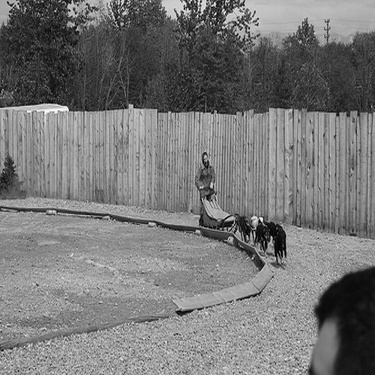dog: (268, 221, 289, 267), (231, 208, 251, 245), (253, 216, 272, 254), (250, 211, 263, 237), (263, 217, 278, 239)
